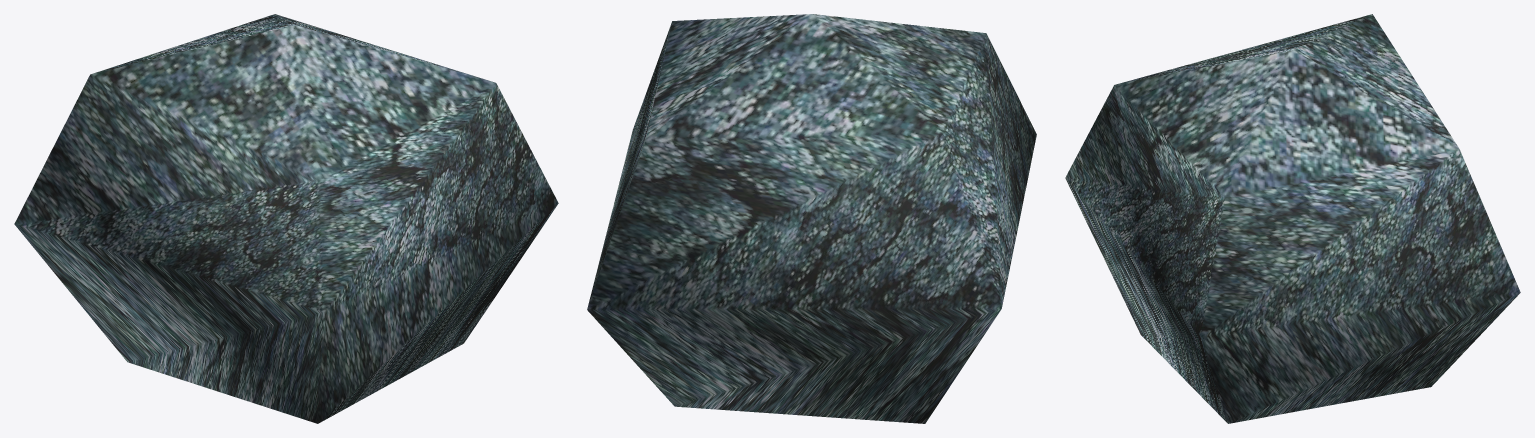
The model's file is rock_crystl_watrbush_med_l2.fbx.
3 renders of one model, left to right at view 1: azimuth 30°, elevation 25°; view 2: azimuth 150°, elevation 25°; view 3: azimuth 270°, elevation 25°, orthographic. The views are drawn at different scales.
Parts seen in each view (by area): view 1: mesh_node; view 2: mesh_node; view 3: mesh_node.
Boxes of the visible parts, x1,y1,x2,y2 form: mesh_node: [14, 14, 558, 423]; mesh_node: [587, 14, 1036, 423]; mesh_node: [1065, 14, 1520, 423].
Size of the model in its own units: 2.73 by 1.92 by 2.55.
